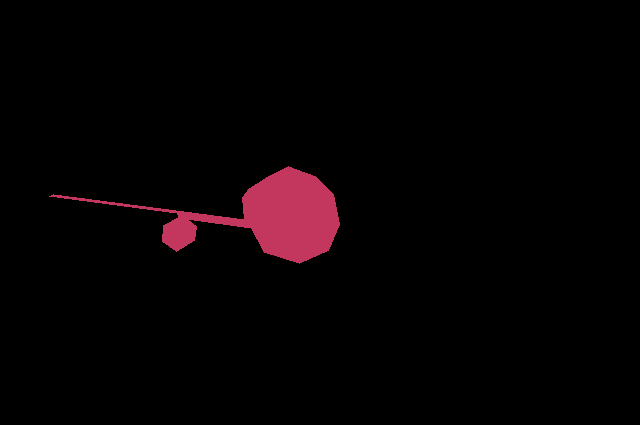Airplane: (49, 166, 340, 263)
